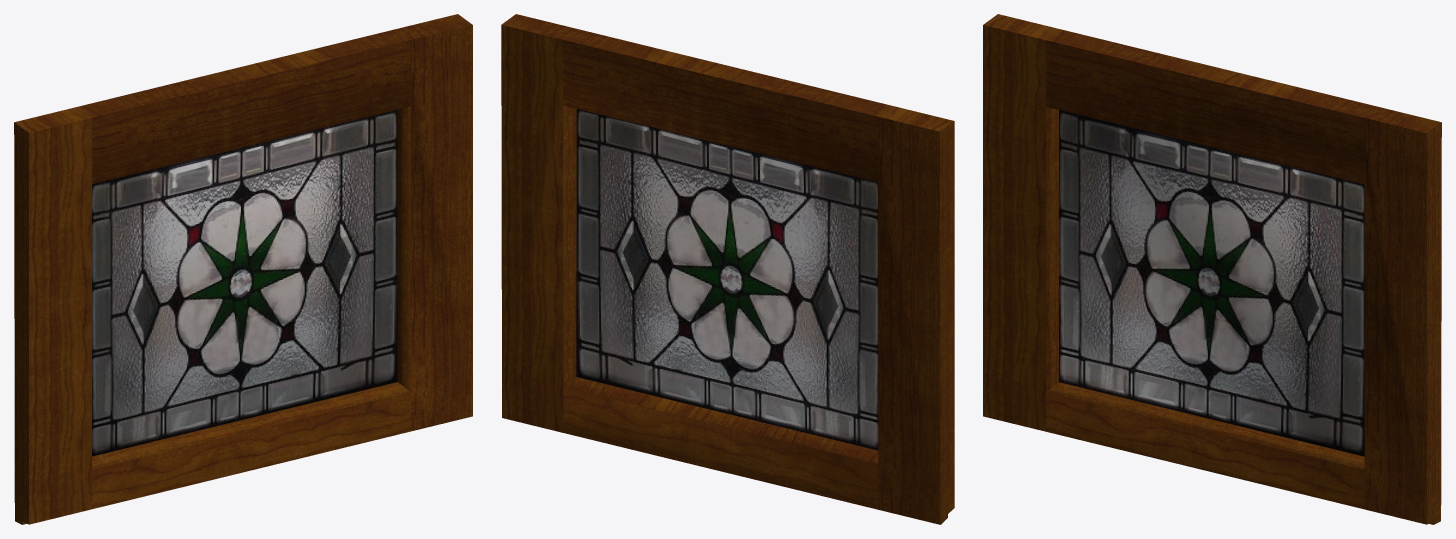
Rendered from StableDoorTeakUPPER02.fbx.
The picture shows the model from 3 angles, left to right: view 1: azimuth 30°, elevation 25°; view 2: azimuth 150°, elevation 25°; view 3: azimuth 330°, elevation 25°; orthographic projection.
Visible parts, largest first — view 1: default; view 2: default; view 3: default.
Boxes of the visible parts, x1=… form: default: x1=14, y1=14, x2=472, y2=524; default: x1=501, y1=14, x2=954, y2=524; default: x1=983, y1=14, x2=1441, y2=524.
Bounding box in the file's own units: 113 × 96.82 × 6.56.
